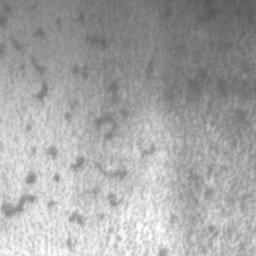Pitted surface: (0, 79, 256, 256), (20, 55, 46, 75), (65, 96, 80, 122), (0, 40, 22, 55), (72, 65, 89, 80), (236, 109, 248, 128), (191, 71, 205, 87), (93, 37, 106, 47), (35, 28, 44, 36), (0, 18, 6, 26)
